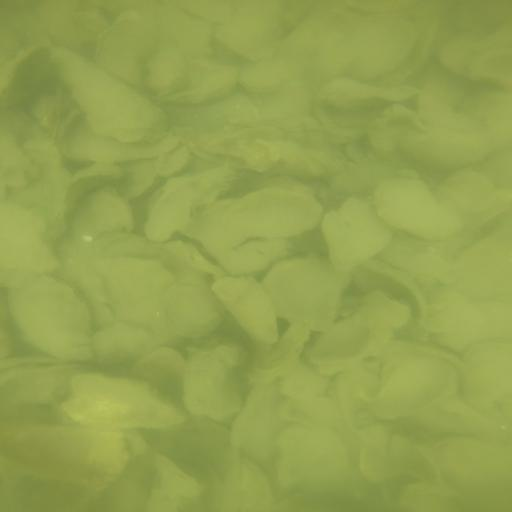Oyster-Closed: (53, 51, 167, 142), (2, 424, 134, 498), (191, 190, 319, 248), (62, 375, 194, 429), (304, 300, 404, 371), (11, 276, 91, 362), (149, 164, 240, 238), (373, 351, 457, 419), (356, 262, 428, 338), (57, 119, 183, 162), (265, 256, 338, 329), (375, 176, 458, 239), (278, 426, 349, 491), (187, 347, 245, 425), (324, 201, 390, 268), (427, 284, 489, 353), (388, 430, 455, 489), (214, 279, 275, 343), (399, 133, 495, 171), (162, 60, 239, 104), (166, 282, 223, 339), (465, 342, 509, 411), (77, 188, 137, 238), (1, 50, 51, 108), (151, 455, 207, 503), (96, 323, 154, 365), (138, 347, 183, 393), (364, 450, 401, 482)
Oyster-Open: (319, 78, 423, 112), (159, 236, 223, 280)
